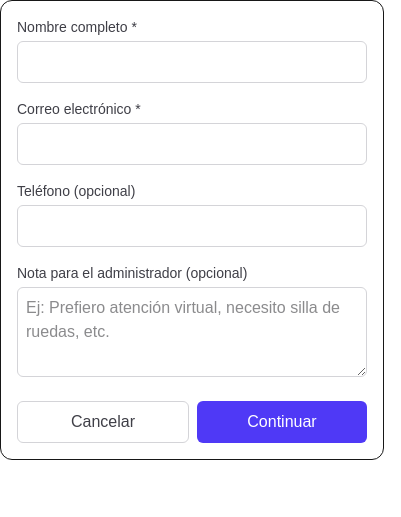
Test: FormularioDatosPersonales › Escenario 2: Validacion del nombre muestra error al contener caracteres invalidos
Type "Juan123" into the field labelled "Nombre completo *" at [192, 62], box x1=17 y1=41 x2=367 y2=83
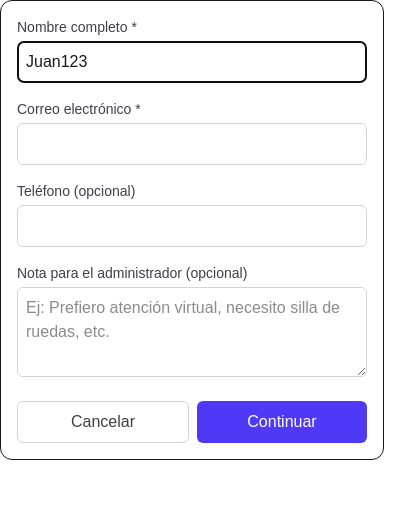
Click the button "Continuar" at [282, 422], box x1=197 y1=401 x2=367 y2=443
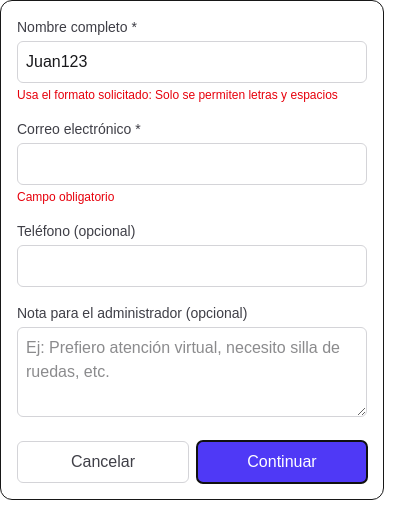
Expected: the text "Usa el formato solicitado: Solo se permiten letras y espacios" is shown, x1=17 y1=87 x2=367 y2=103
